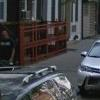Car: (4, 59, 77, 100)
